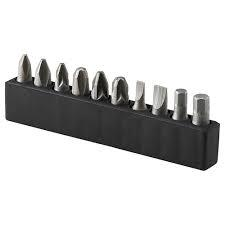screwdriver: (111, 74, 128, 105), (33, 56, 50, 85), (91, 70, 108, 99), (72, 66, 88, 96), (151, 83, 167, 112), (54, 61, 68, 92), (131, 80, 146, 108), (17, 52, 30, 79)
